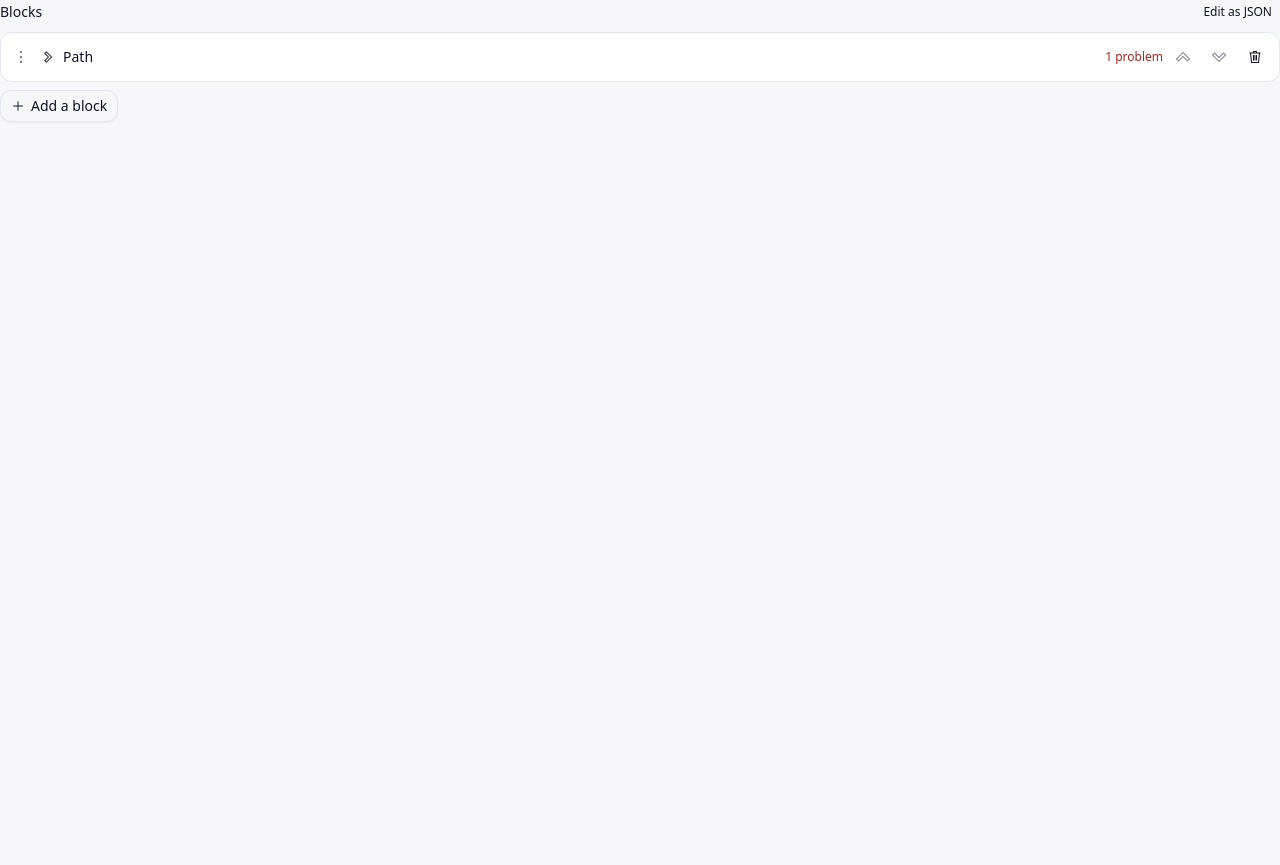
Test case: a list of groups › marks a missing required part on the entry and on the block
This screenshot has width=1280, height=865.
Expected: the text "1 problem" is shown, [1105,49,1163,65]
Click the button "Path": (78, 56) [37,43,1101,71]
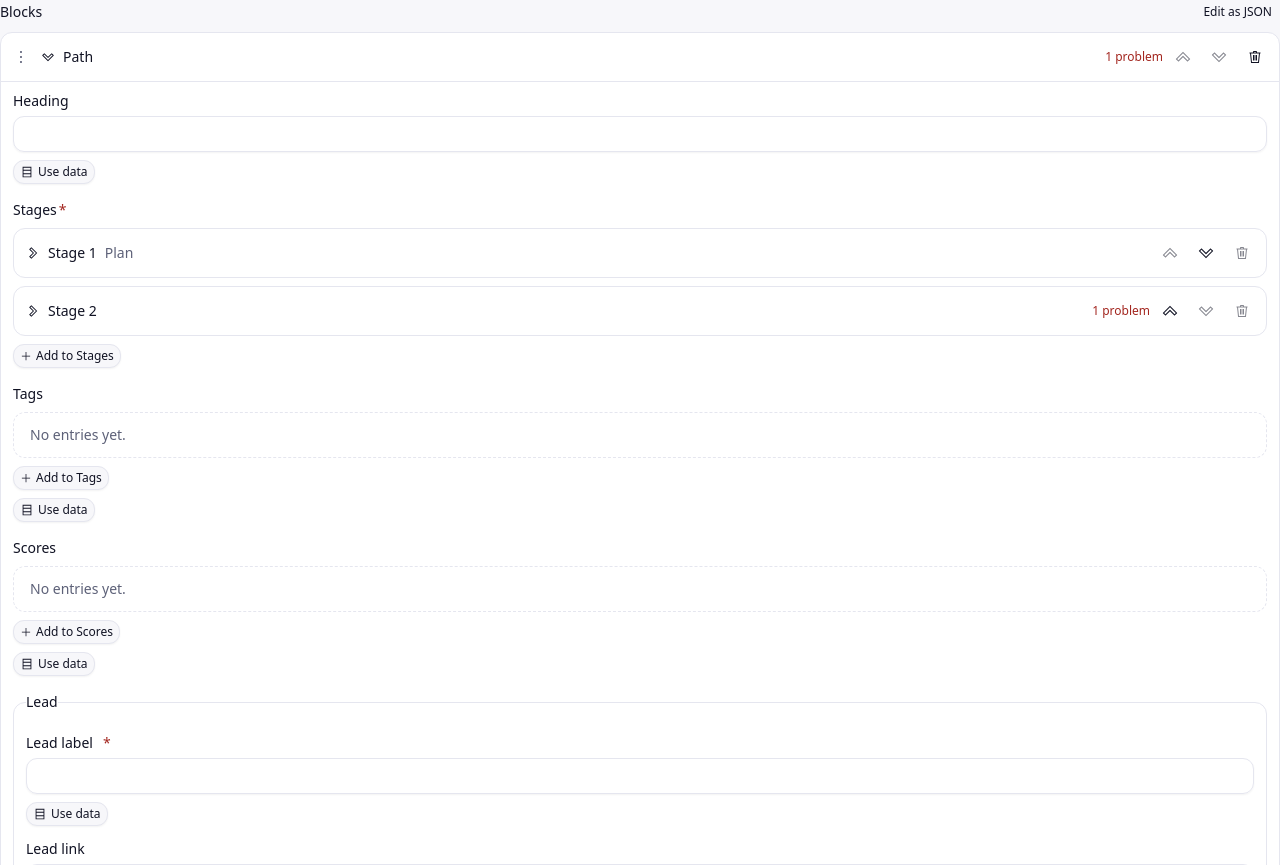
Result: the 2nd text "1 problem" is shown at [1092,303,1150,319]
Click the button "Stage 2": (72, 310) [22,297,1088,325]
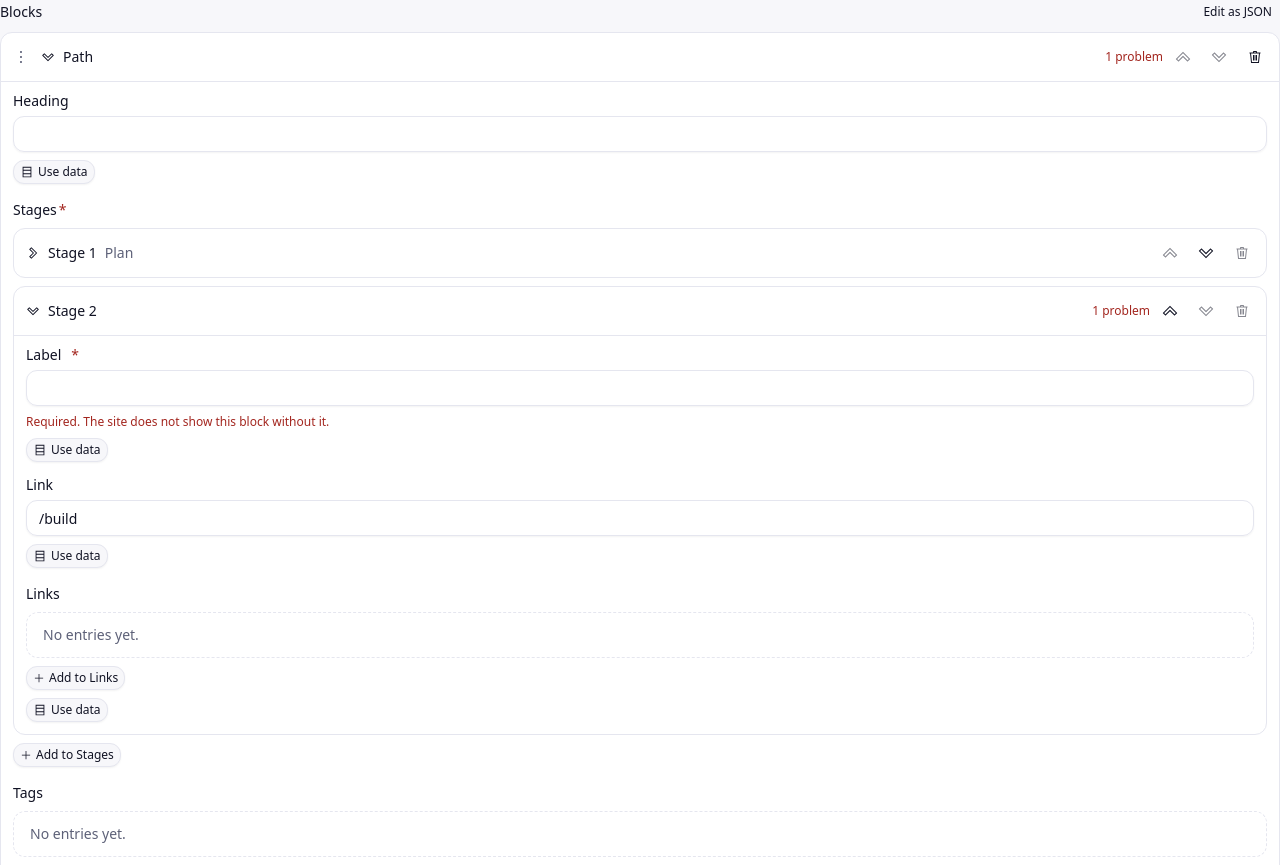
Result: the text "Required. The site does not show this block without it." is shown at [26,413,329,430]
